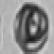correct: (12, 2, 49, 52)
